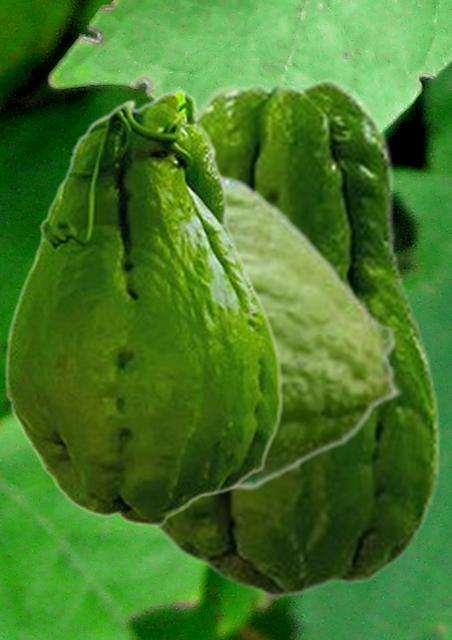sayote: (150, 76, 440, 598), (4, 88, 283, 527), (208, 170, 403, 499)
